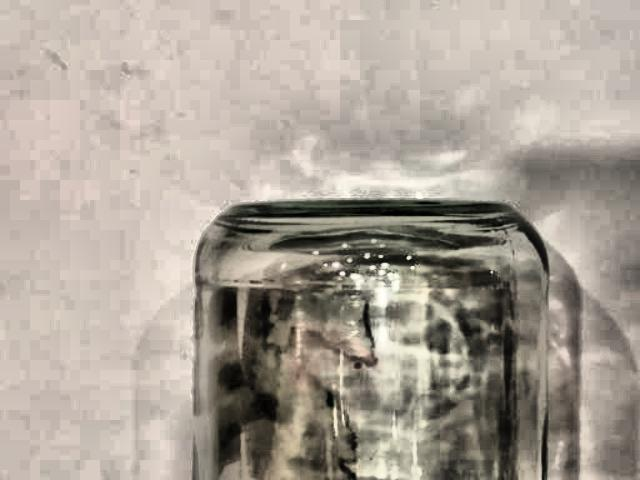Almennt: (177, 186, 579, 480)
